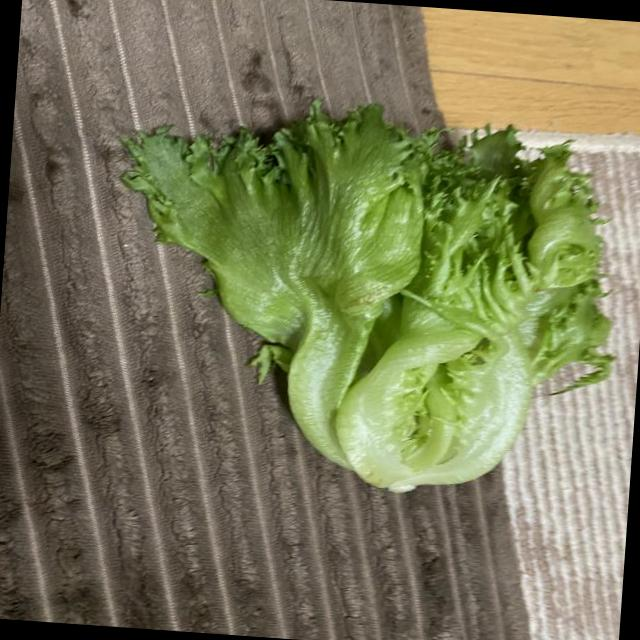Lettuce-Ready-to-Harvest: (124, 103, 611, 491)
